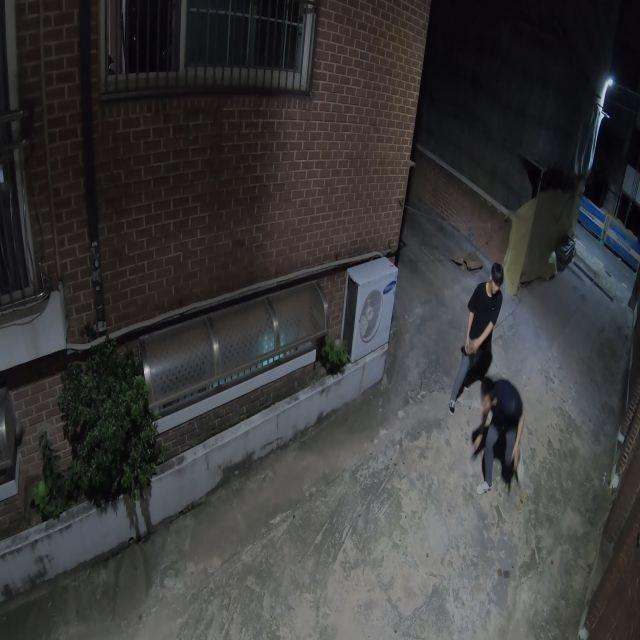fight: (449, 257, 525, 495)
